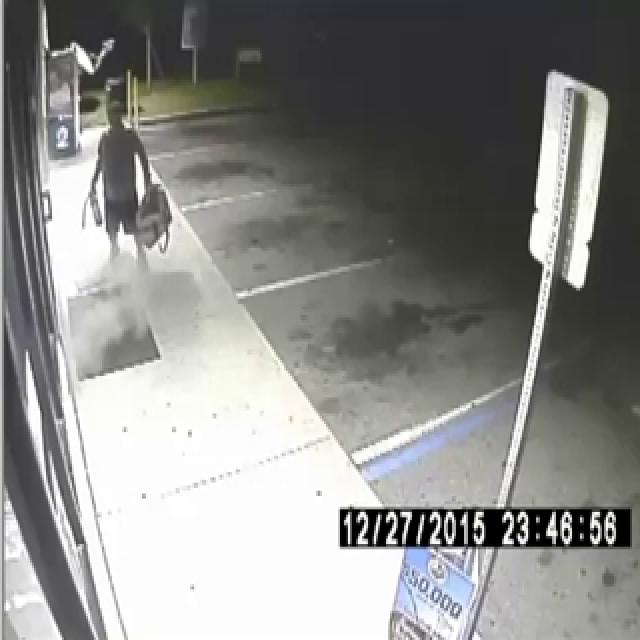vandalism: (62, 16, 355, 484)
